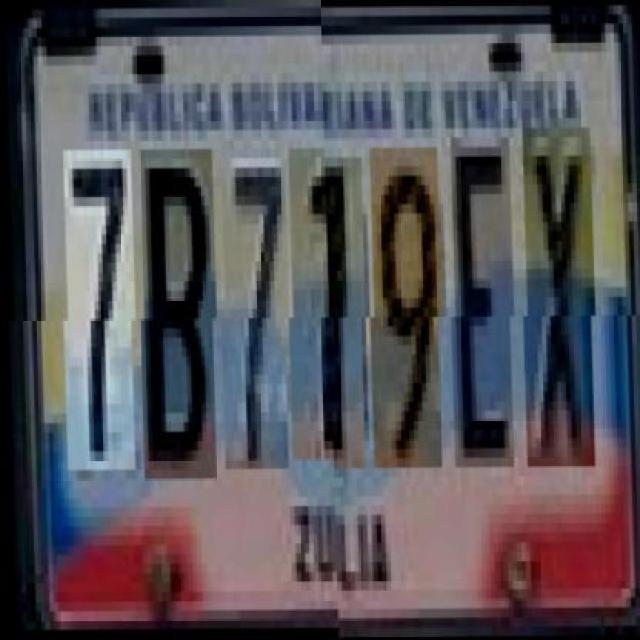1: (288, 158, 367, 470)
7: (62, 159, 138, 479), (220, 158, 291, 478)
9: (368, 148, 444, 468)
b: (139, 158, 219, 490)
e: (450, 138, 516, 468)
x: (521, 128, 597, 468)
